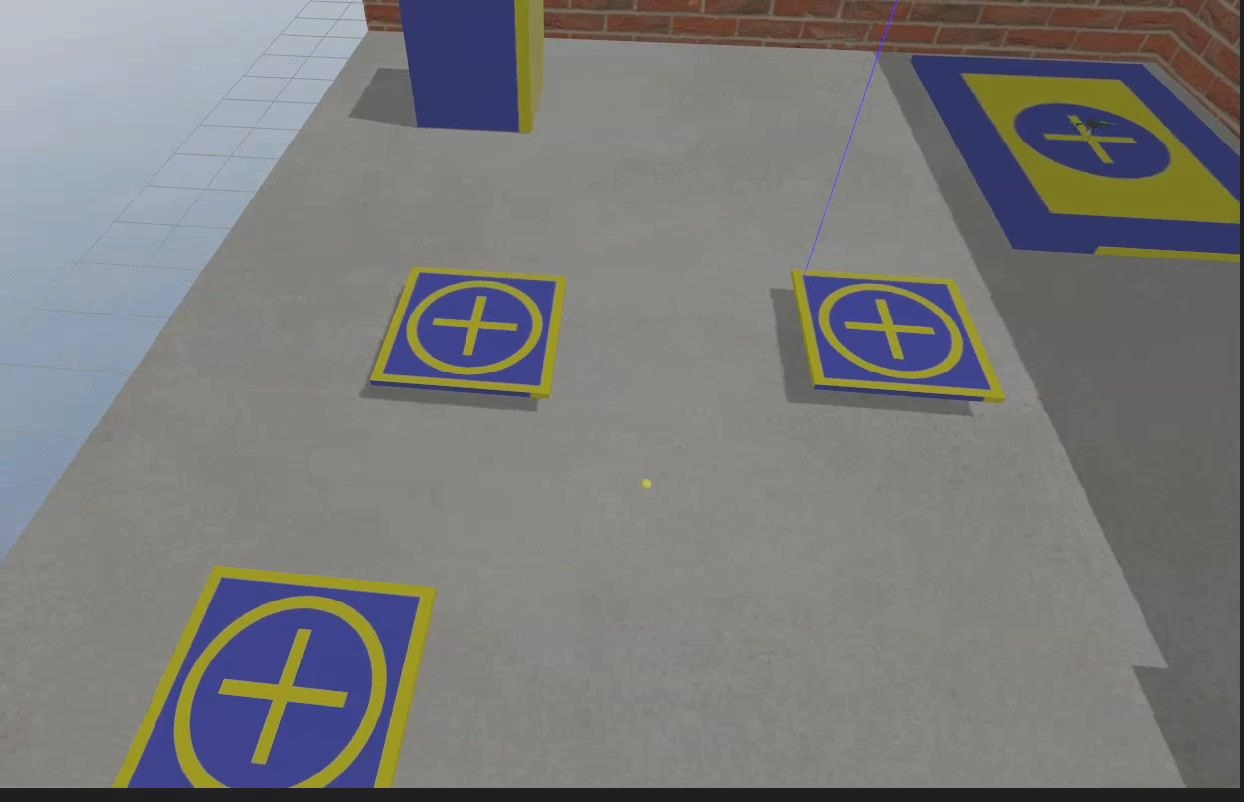large_base: (909, 52, 1244, 263)
small_base: (117, 568, 435, 788), (793, 270, 1009, 410), (370, 267, 564, 401)
